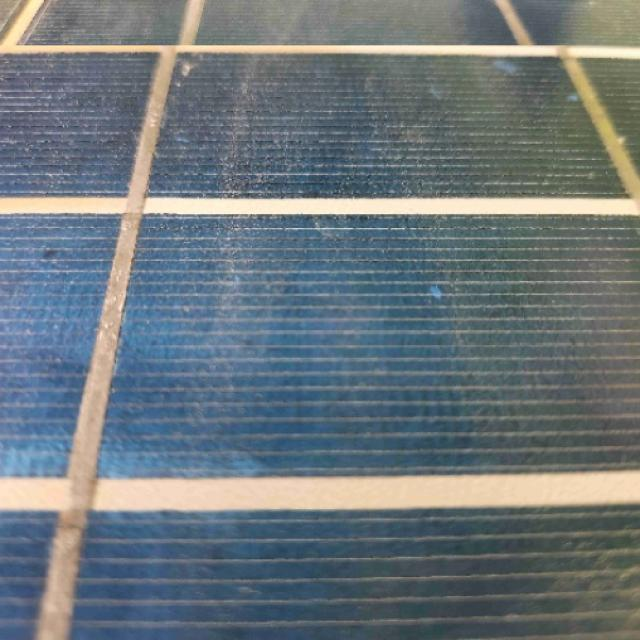Dirty: (0, 45, 640, 640)
